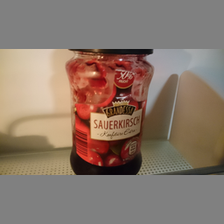jam: (65, 49, 156, 176)
